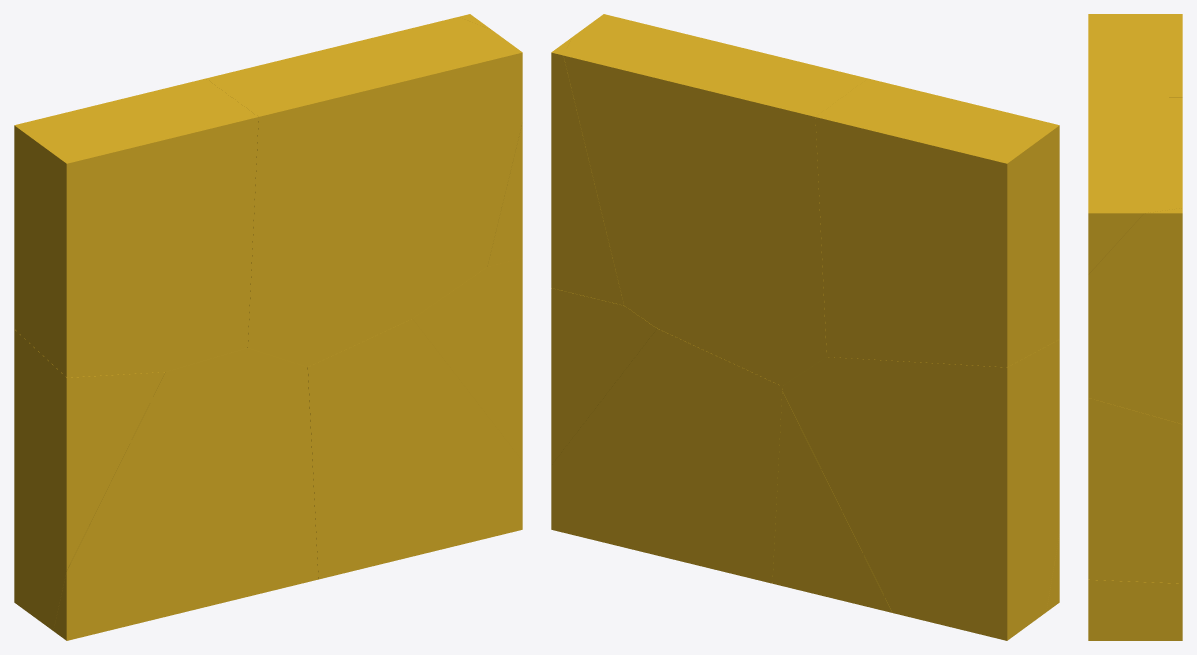
Rendered from WallBroken.fbx.
The picture shows the model from 3 angles, left to right: view 1: azimuth 30°, elevation 25°; view 2: azimuth 150°, elevation 25°; view 3: azimuth 270°, elevation 25°; orthographic projection. The views are drawn at different scales.
Parts seen in each view (by area): view 1: Cube_cell.004, Cube_cell.001, Cube_cell, Cube_cell.003, Cube_cell.002, Cube_cell.005, Cube_cell.006; view 2: Cube_cell.004, Cube_cell.001, Cube_cell.002, Cube_cell.003, Cube_cell, Cube_cell.006, Cube_cell.005; view 3: Cube_cell.006, Cube_cell.005, Cube_cell.004, Cube_cell.001, Cube_cell.003.
Part boxes in pixels (x1,y1,x2,y2): Cube_cell.004: [206, 17, 522, 366]; Cube_cell.001: [14, 78, 258, 377]; Cube_cell: [53, 348, 318, 640]; Cube_cell.003: [307, 319, 522, 579]; Cube_cell.002: [14, 329, 165, 630]; Cube_cell.005: [412, 258, 522, 460]; Cube_cell.006: [458, 14, 522, 266]; Cube_cell.004: [563, 14, 867, 385]; Cube_cell.001: [815, 78, 1059, 367]; Cube_cell.002: [782, 339, 1059, 640]; Cube_cell.003: [551, 328, 782, 583]; Cube_cell: [772, 391, 1059, 612]; Cube_cell.006: [551, 37, 624, 305]; Cube_cell.005: [551, 288, 656, 464]; Cube_cell.006: [1088, 208, 1182, 424]; Cube_cell.005: [1088, 398, 1182, 583]; Cube_cell.004: [1088, 98, 1182, 274]; Cube_cell.001: [1088, 14, 1182, 97]; Cube_cell.003: [1088, 579, 1182, 640].
Bounding box in the file's own units: 10 × 10 × 2.
